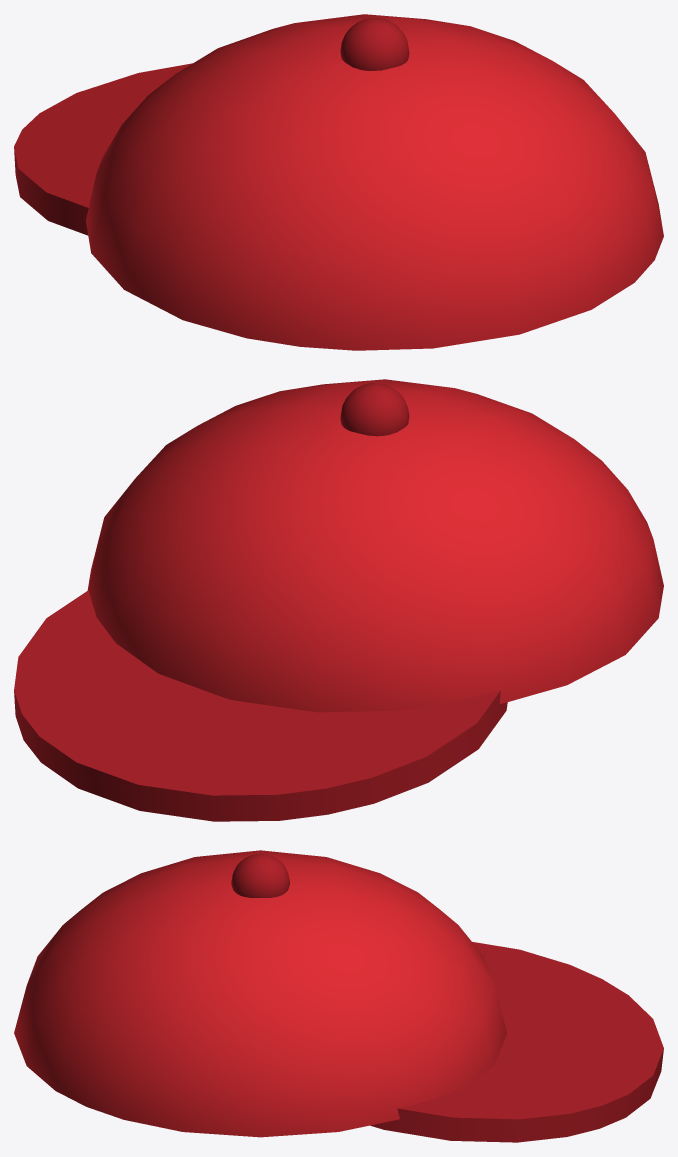
Rendered from cap.obj.
3 views of the same model, one above another, from view 1: azimuth 30°, elevation 25°; view 2: azimuth 150°, elevation 25°; view 3: azimuth 270°, elevation 25° (orthographic). The views are drawn at different scales.
Visible parts, largest first — view 1: Dome, Brim, Button; view 2: Dome, Brim, Button; view 3: Dome, Brim, Button.
Boxes of the visible parts, box(x1,y1,x2,y2) form: Dome: box(86, 14, 663, 350); Brim: box(14, 63, 192, 235); Button: box(340, 18, 409, 70); Dome: box(87, 379, 663, 712); Brim: box(14, 590, 507, 821); Button: box(340, 383, 409, 436); Dome: box(14, 850, 507, 1137); Brim: box(370, 942, 663, 1142); Button: box(231, 853, 289, 897).
Size of the model in its own units: 1.34 by 0.6449 by 1.77.
